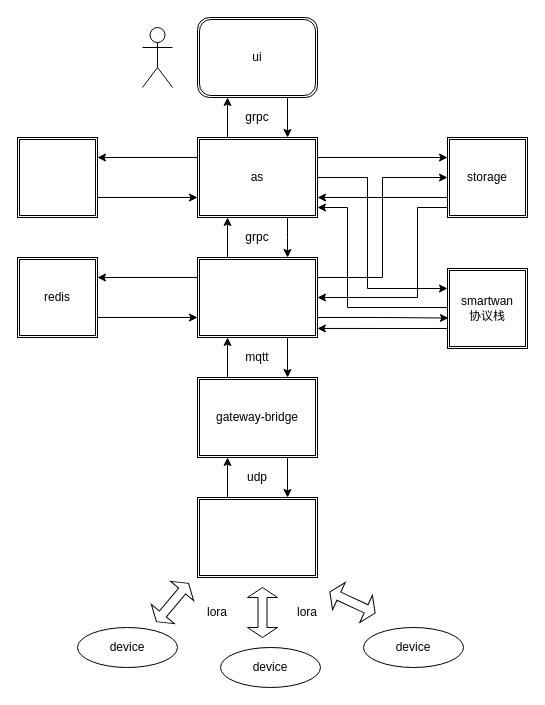
Image size: 545x705. Some labels were removed from this diagram. Each missing label, with the centre of its shape:
"Actor" belongs at (157,57).
"ftp-server" belongs at (57,177).
"gateway" belongs at (257,537).
"ns" belongs at (257,297).
